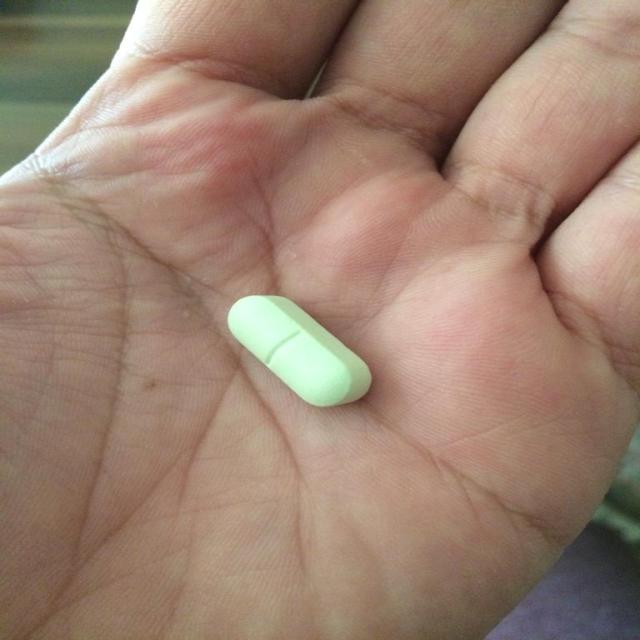pills: (225, 292, 381, 412)
